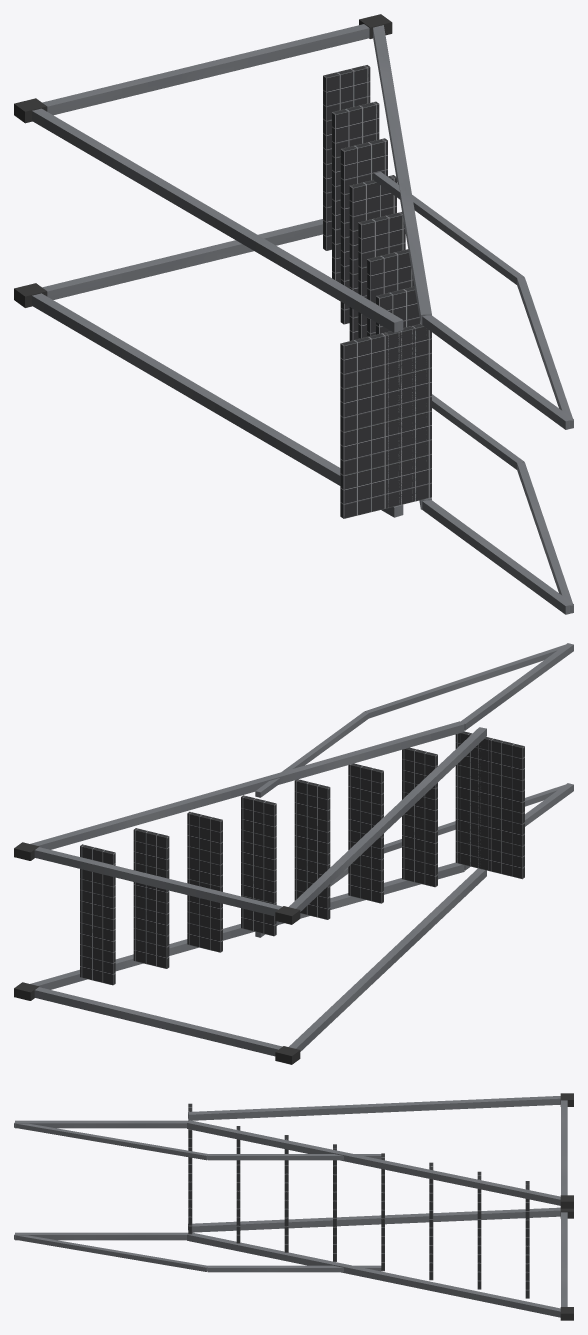
Rendered from ladder.gltf.
The picture shows the model from 3 angles, top to bottom: view 1: azimuth 30°, elevation 25°; view 2: azimuth 150°, elevation 25°; view 3: azimuth 270°, elevation 25°; orthographic projection. The views are drawn at different scales.
Visible parts, largest first — view 1: ladder; view 2: ladder; view 3: ladder.
Boxes of the visible parts, x1,y1,x2,y2 form: ladder: (14,14,573,614); ladder: (14,643,573,1064); ladder: (14,1093,573,1320).
Bounding box in the file's own units: 1.33 × 0.68 × 2.9.
3 materials, 2 textured.
